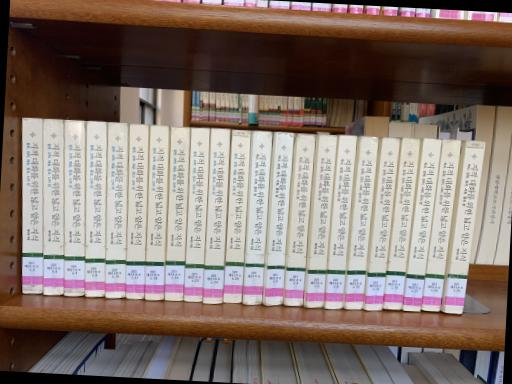book-spine: (444, 141, 485, 314), (401, 139, 441, 312), (421, 139, 461, 311), (384, 138, 420, 310), (365, 138, 399, 311), (346, 136, 378, 310), (306, 135, 337, 308), (264, 132, 294, 306), (326, 136, 356, 310), (284, 135, 314, 306), (243, 131, 272, 305), (203, 128, 230, 304), (183, 128, 210, 302), (223, 129, 250, 303), (164, 127, 189, 301), (145, 125, 169, 301), (105, 122, 128, 299), (125, 125, 148, 299), (43, 118, 64, 295), (64, 120, 85, 297), (85, 121, 106, 297), (22, 118, 42, 293)
